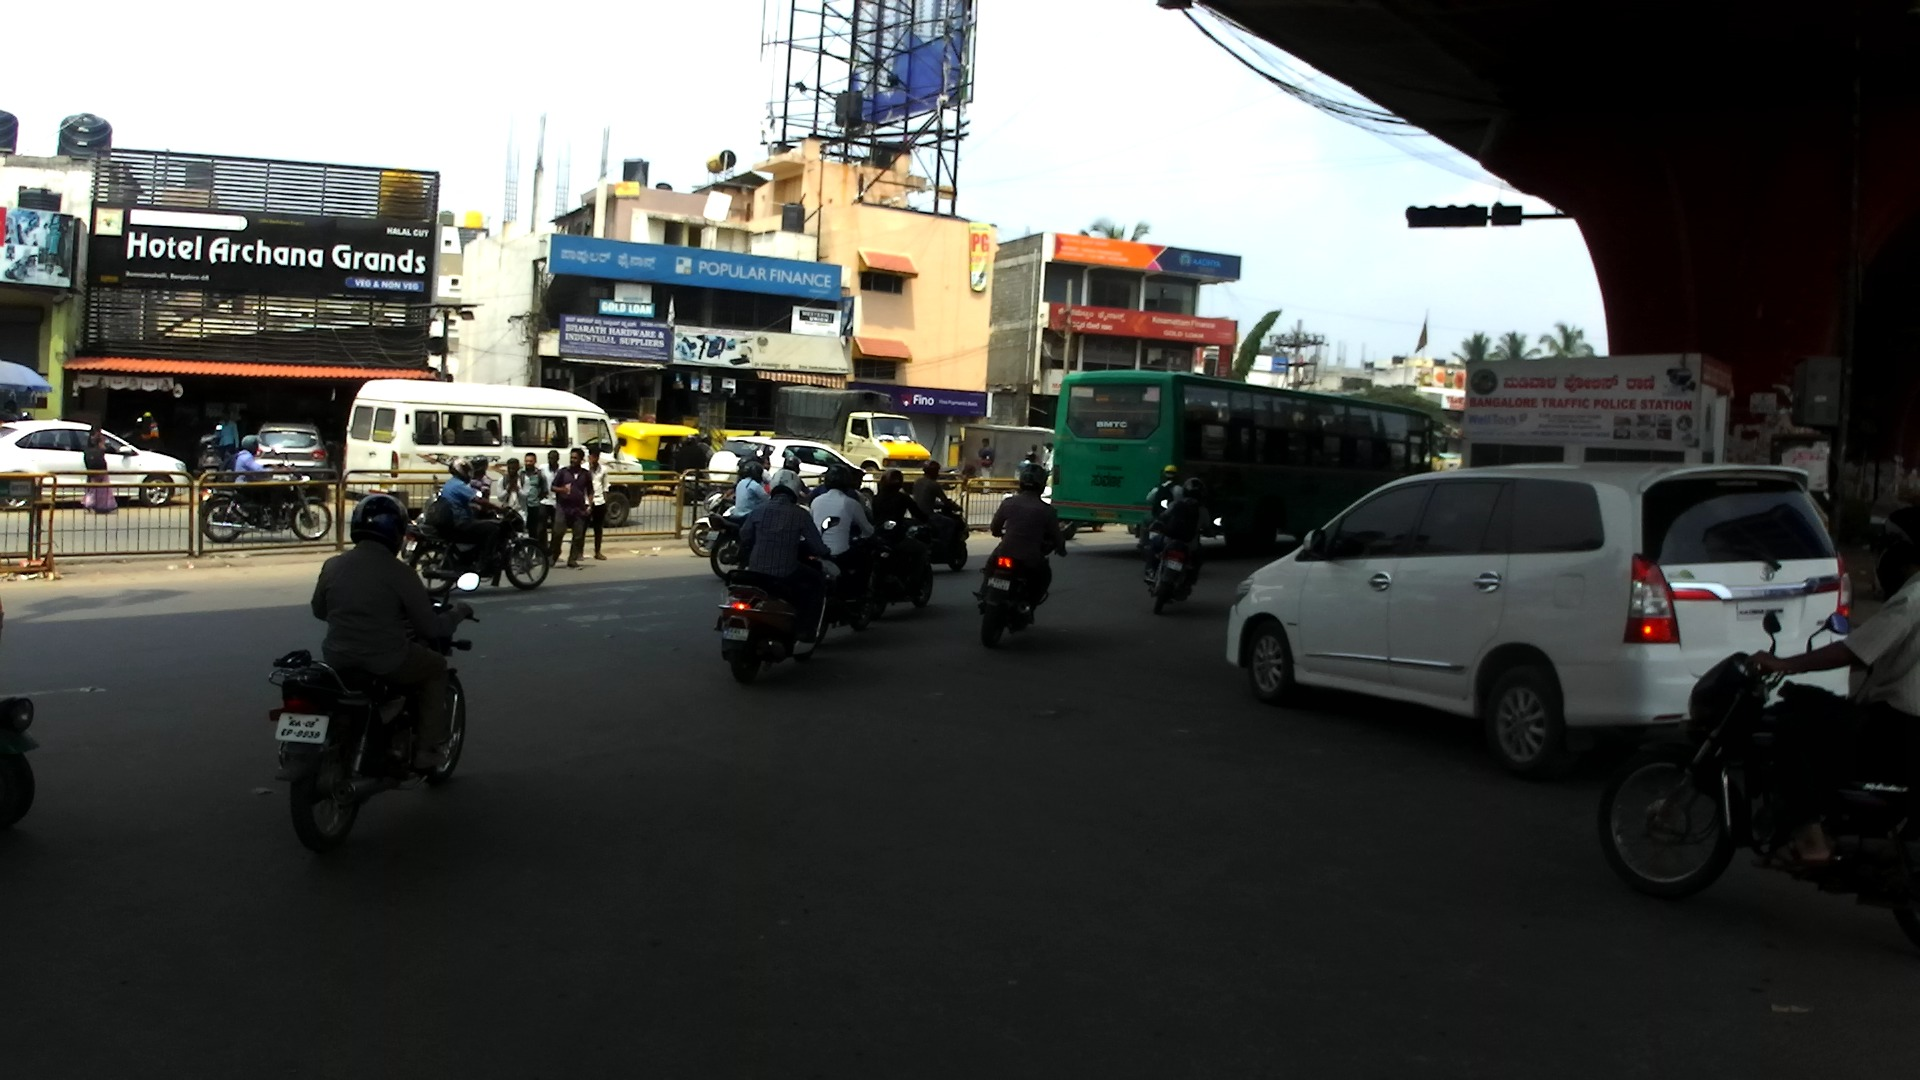autorickshaw: (616, 424, 713, 486), (1, 685, 38, 830)
bus: (1048, 370, 1453, 555), (343, 380, 642, 532)
car: (1227, 461, 1852, 775), (1, 420, 191, 507), (711, 435, 879, 499), (256, 419, 330, 493)
motorcycle: (1598, 606, 1920, 947), (269, 571, 483, 858), (715, 516, 840, 682), (399, 507, 554, 592), (974, 525, 1070, 647), (1144, 499, 1222, 616), (822, 520, 897, 623), (871, 520, 936, 607), (917, 501, 969, 571), (690, 490, 733, 563), (708, 516, 747, 582), (198, 423, 223, 481), (941, 463, 980, 492), (1141, 519, 1162, 566), (276, 448, 301, 476)
person: (553, 448, 587, 574), (517, 452, 548, 555), (83, 424, 113, 516), (588, 448, 610, 566), (499, 454, 530, 527), (545, 451, 561, 535), (133, 409, 161, 455), (217, 409, 239, 459), (978, 436, 994, 495), (1043, 440, 1055, 500), (4, 396, 26, 424), (237, 411, 254, 442), (1028, 439, 1038, 463)
rider: (1748, 506, 1918, 867), (311, 491, 471, 775), (741, 471, 824, 633), (991, 464, 1069, 615), (431, 459, 508, 586), (815, 461, 871, 610), (870, 467, 932, 601), (1144, 479, 1208, 582), (1137, 466, 1186, 547), (911, 460, 948, 545), (854, 469, 878, 525), (675, 437, 706, 476), (773, 458, 803, 496), (236, 432, 263, 473), (468, 455, 489, 496), (1017, 449, 1040, 482), (728, 458, 750, 489), (696, 431, 714, 463), (758, 456, 773, 493)
traffic light: (1404, 203, 1525, 233)
truck: (768, 389, 930, 488)
